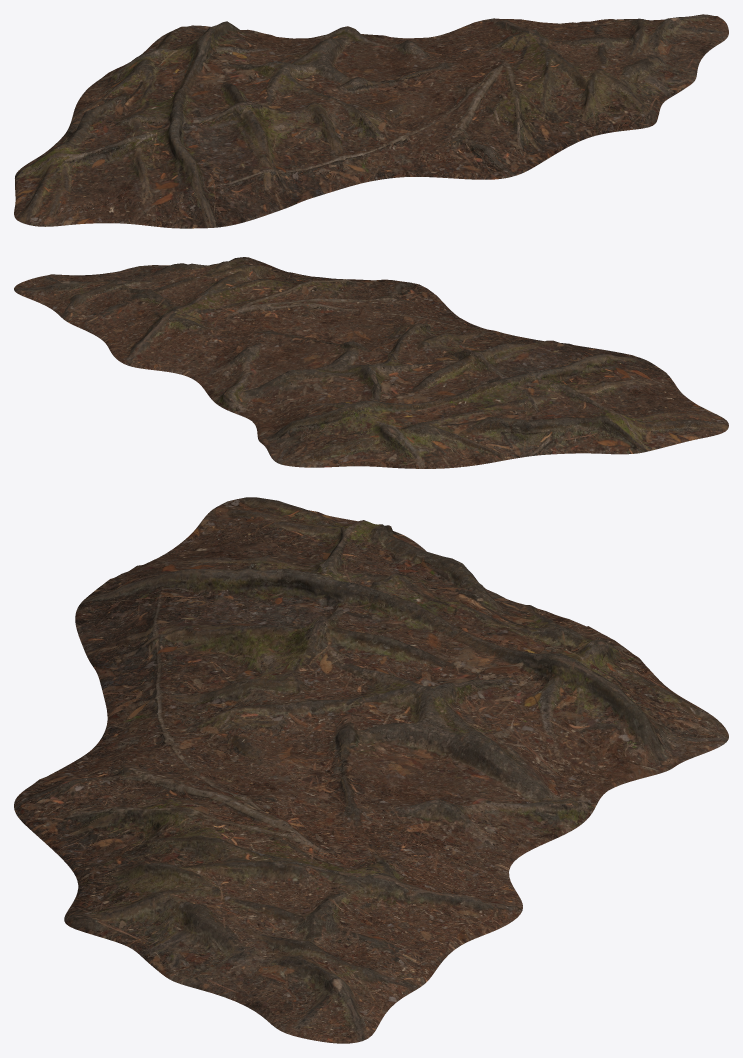
File: forest_american_tree_root_mixed_small_03_xdmnec3_mid - Kopi.glb
3 renders of one model, top to bottom at view 1: azimuth 30°, elevation 25°; view 2: azimuth 150°, elevation 25°; view 3: azimuth 270°, elevation 25°, orthographic. The views are drawn at different scales.
Visible parts, largest first — view 1: xdmnec3_LOD2_TIER2; view 2: xdmnec3_LOD2_TIER2; view 3: xdmnec3_LOD2_TIER2.
Part boxes in pixels (x1,y1,x2,y2): xdmnec3_LOD2_TIER2: [14, 14, 728, 228]; xdmnec3_LOD2_TIER2: [14, 257, 728, 468]; xdmnec3_LOD2_TIER2: [14, 497, 728, 1043].
Bounding box in the file's own units: 1.89 × 0.1017 × 1.05.
Materials: 1 (1 with a texture image).
